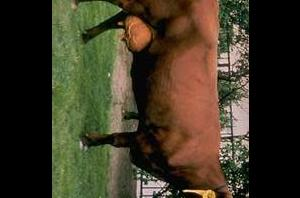cow: (70, 0, 236, 198)
